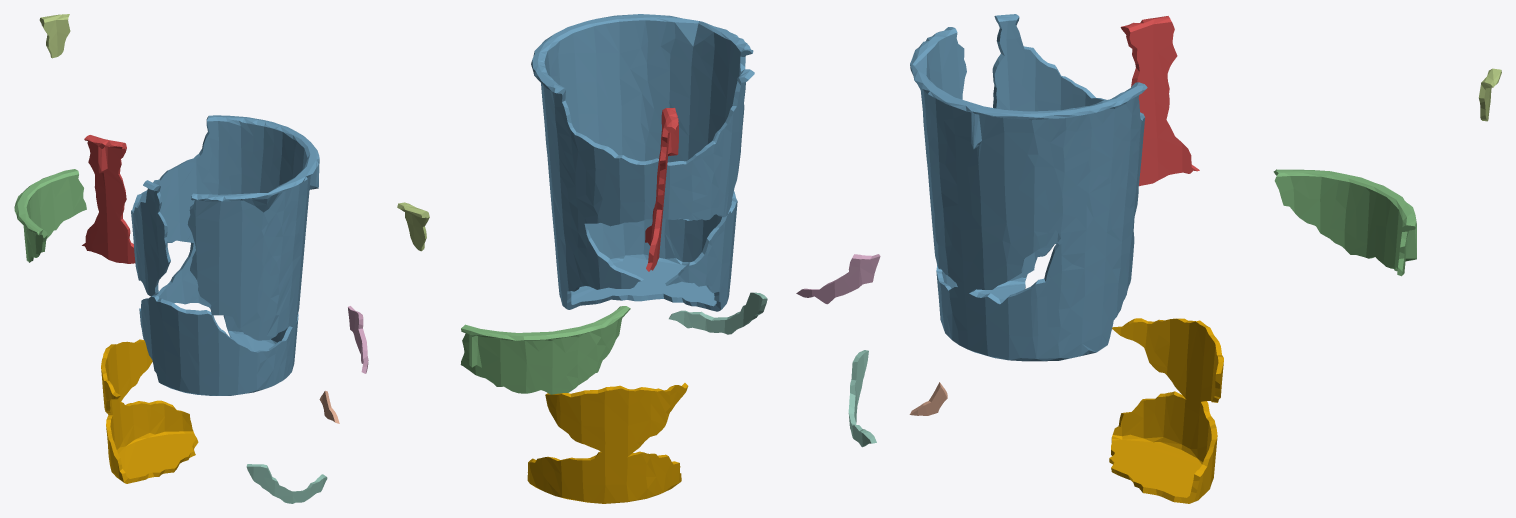
File: fractured_10_8pcs_transformed.glb
3 views of the same model, side by side, from view 1: azimuth 30°, elevation 25°; view 2: azimuth 150°, elevation 25°; view 3: azimuth 270°, elevation 25° (orthographic). The views are drawn at different scales.
Visible parts, largest first — view 1: piece_2.obj, piece_0.obj, piece_1.obj, piece_3.obj, piece_4.obj, piece_5.obj, piece_6.obj; view 2: piece_2.obj, piece_0.obj, piece_3.obj, piece_1.obj, piece_4.obj, piece_5.obj; view 3: piece_2.obj, piece_0.obj, piece_3.obj, piece_1.obj, piece_6.obj, piece_4.obj.
Part boxes in pixels (bbox=[...]): piece_2.obj: bbox=[131, 115, 319, 395]; piece_0.obj: bbox=[101, 339, 198, 483]; piece_1.obj: bbox=[82, 135, 135, 263]; piece_3.obj: bbox=[14, 169, 86, 262]; piece_4.obj: bbox=[246, 464, 327, 503]; piece_5.obj: bbox=[39, 14, 70, 58]; piece_6.obj: bbox=[348, 306, 368, 373]; piece_2.obj: bbox=[531, 14, 754, 311]; piece_0.obj: bbox=[527, 383, 688, 503]; piece_3.obj: bbox=[460, 306, 630, 394]; piece_1.obj: bbox=[645, 107, 678, 271]; piece_4.obj: bbox=[669, 292, 767, 334]; piece_5.obj: bbox=[397, 202, 429, 251]; piece_2.obj: bbox=[910, 14, 1147, 361]; piece_0.obj: bbox=[1109, 318, 1223, 503]; piece_3.obj: bbox=[1273, 169, 1416, 276]; piece_1.obj: bbox=[1120, 16, 1199, 186]; piece_6.obj: bbox=[796, 254, 880, 304]; piece_4.obj: bbox=[848, 350, 876, 447].
Size of the model in its own units: 0.8594 by 1.6 by 2.45.
